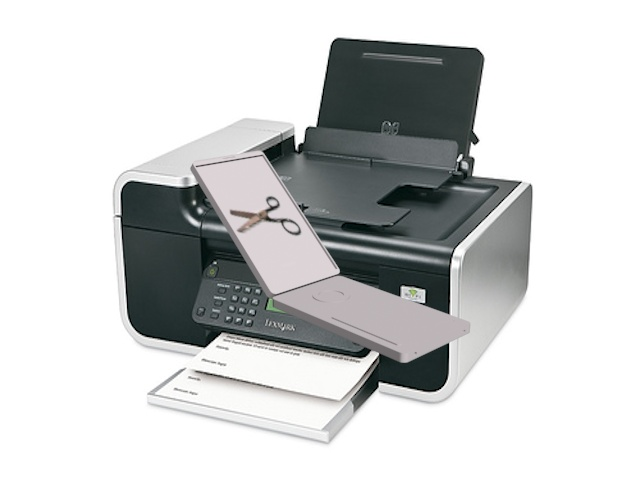mobile_phone: (185, 145, 480, 368)
